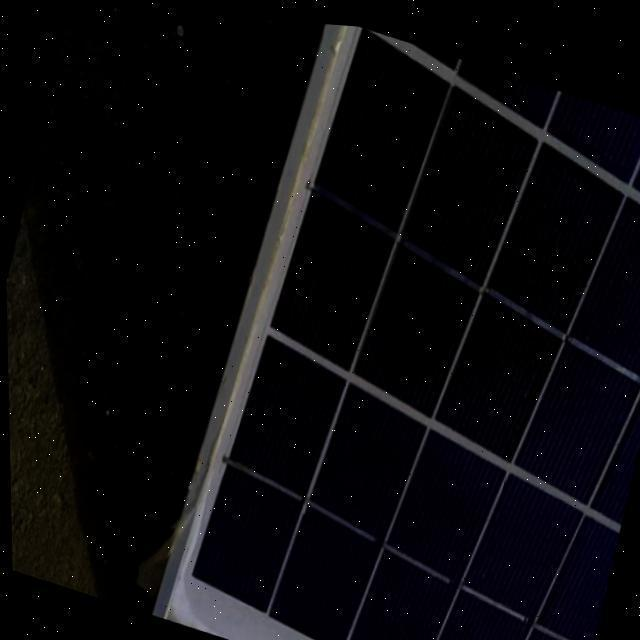Normal Solar Panel: (139, 8, 640, 640)
